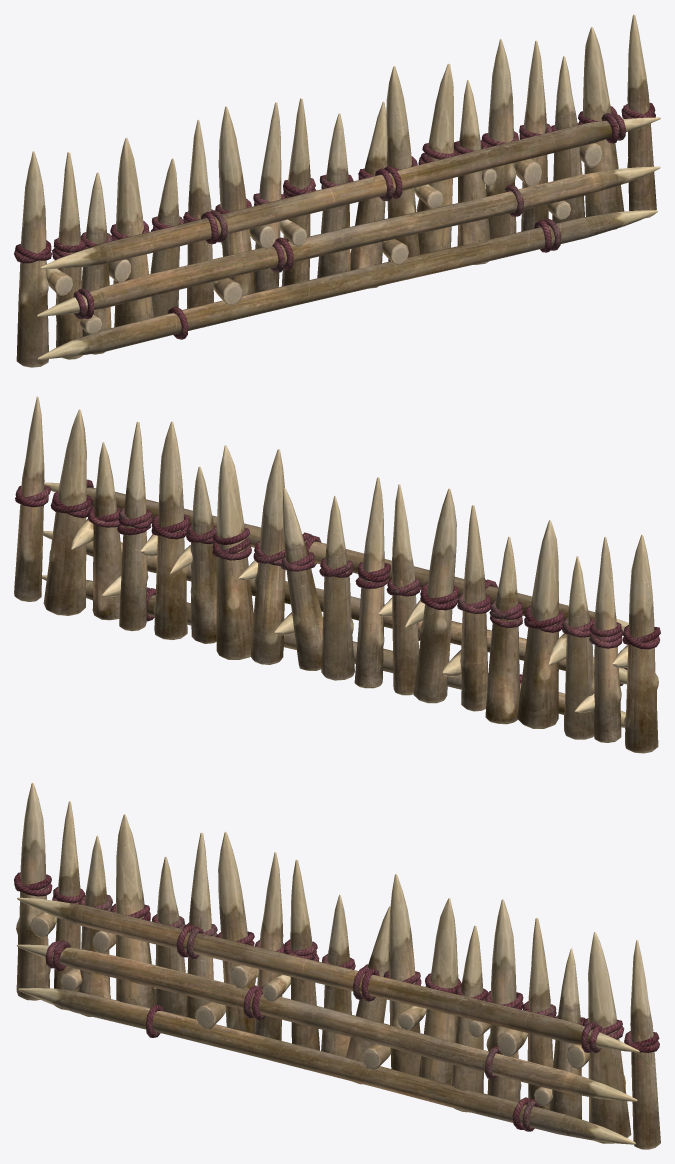
3 renders of one model, top to bottom at view 1: azimuth 30°, elevation 25°; view 2: azimuth 150°, elevation 25°; view 3: azimuth 330°, elevation 25°, orthographic.
Visible parts, largest first — view 1: SM_Garou_Set_SM_SpikeFence_02_4x4_LOD0; view 2: SM_Garou_Set_SM_SpikeFence_02_4x4_LOD0; view 3: SM_Garou_Set_SM_SpikeFence_02_4x4_LOD0.
Boxes of the visible parts, x1,y1,x2,y2 form: SM_Garou_Set_SM_SpikeFence_02_4x4_LOD0: (14,14,660,367); SM_Garou_Set_SM_SpikeFence_02_4x4_LOD0: (14,396,660,753); SM_Garou_Set_SM_SpikeFence_02_4x4_LOD0: (14,782,660,1149).
Bounding box in the file's own units: 4 × 1.29 × 0.4389.
1 material, 1 textured.
